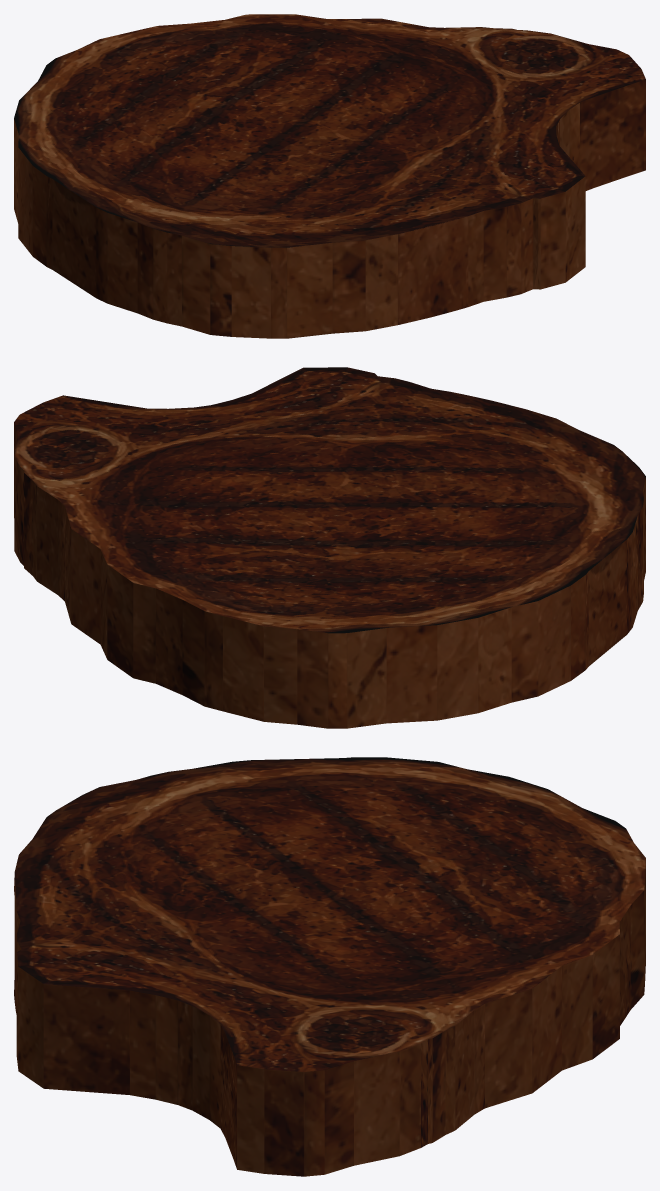
File: Food.glb
The picture shows the model from 3 angles, top to bottom: view 1: azimuth 30°, elevation 25°; view 2: azimuth 150°, elevation 25°; view 3: azimuth 270°, elevation 25°; orthographic projection. The views are drawn at different scales.
Visible parts, largest first — view 1: GrilledMeat; view 2: GrilledMeat; view 3: GrilledMeat.
Boxes of the visible parts, x1,y1,x2,y2 form: GrilledMeat: (14, 14, 645, 338); GrilledMeat: (14, 367, 645, 728); GrilledMeat: (14, 757, 645, 1176).
Size of the model in its own units: 13.66 by 2.12 by 11.59.
Materials: 1 (1 with a texture image).
